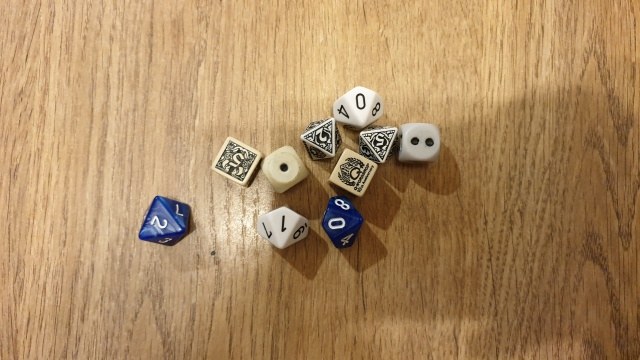d10-1: (250, 202, 314, 255)
d10-10: (314, 190, 370, 258), (326, 81, 392, 133)
d10-2: (130, 188, 201, 254)
d6-1: (257, 142, 311, 197)
d6-2: (397, 118, 443, 168)
d6p-5: (206, 133, 261, 187)
d6p-6: (325, 145, 377, 197)
d8p-2: (300, 118, 342, 162)
d8p-5: (356, 123, 399, 167)
